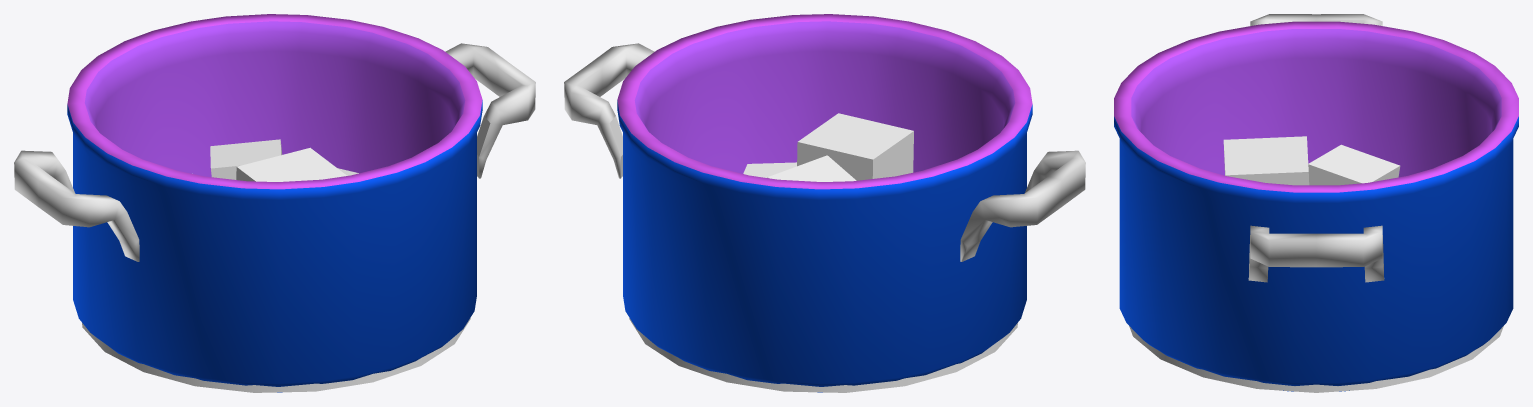
Rendered from MisoSoupPotCooked.fbx.
3 views of the same model, side by side, from view 1: azimuth 30°, elevation 25°; view 2: azimuth 150°, elevation 25°; view 3: azimuth 270°, elevation 25° (orthographic). The views are drawn at different scales.
Visible parts, largest first — view 1: Cylinder.004, Cylinder.005, Chopped Tofu, Miso Water; view 2: Cylinder.004, Cylinder.005, Chopped Tofu, Miso Water; view 3: Cylinder.004, Cylinder.005, Chopped Tofu, Miso Water.
Boxes of the visible parts, box(x1,y1,x2,y2) form: Cylinder.004: box(67, 14, 482, 392); Cylinder.005: box(14, 43, 535, 261); Chopped Tofu: box(192, 139, 358, 181); Miso Water: box(82, 318, 470, 392); Cylinder.004: box(617, 14, 1032, 392); Cylinder.005: box(564, 43, 1085, 261); Chopped Tofu: box(743, 113, 913, 181); Miso Water: box(629, 318, 1017, 392); Cylinder.004: box(1114, 21, 1518, 391); Cylinder.005: box(1248, 14, 1384, 282); Chopped Tofu: box(1223, 136, 1400, 185); Miso Water: box(1129, 326, 1503, 392).
Bounding box in the file's own units: 83.38 × 37.46 × 62.94.
